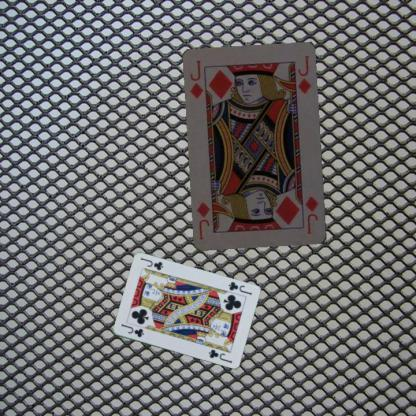Jc: (225, 278, 252, 297), (118, 321, 144, 339)
Jd: (302, 194, 320, 236), (187, 58, 205, 100)
